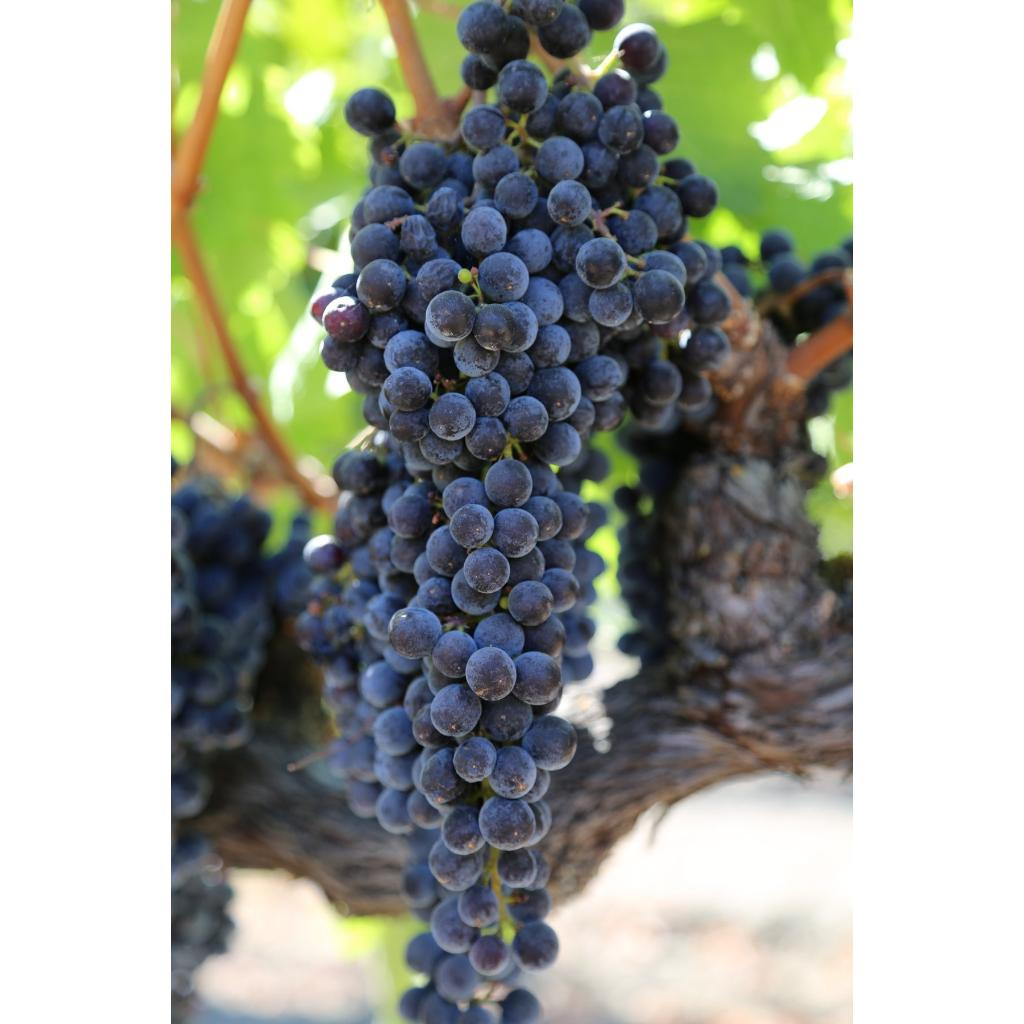grape: (286, 0, 731, 1023)
